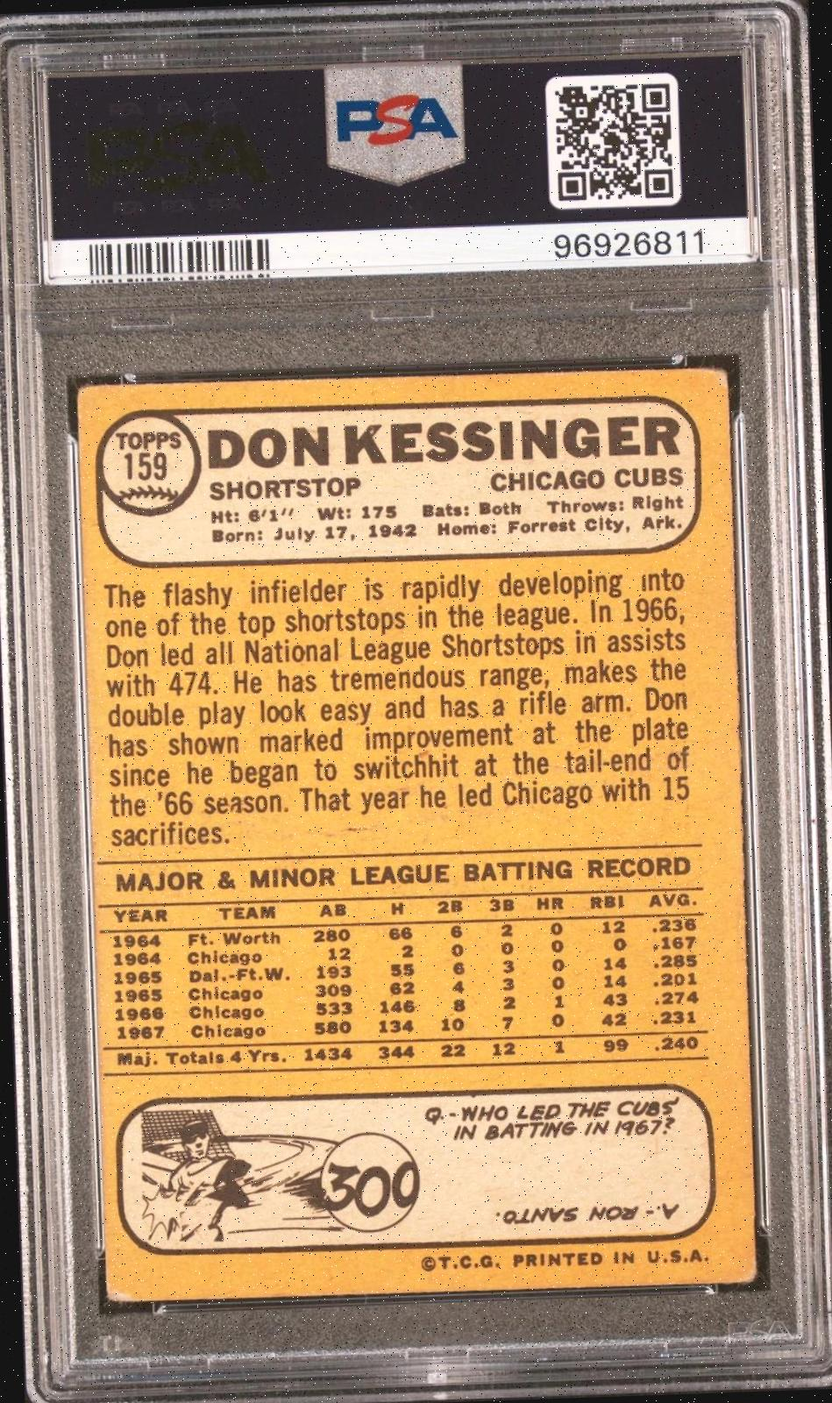card-2UtV: (75, 364, 758, 1303)
